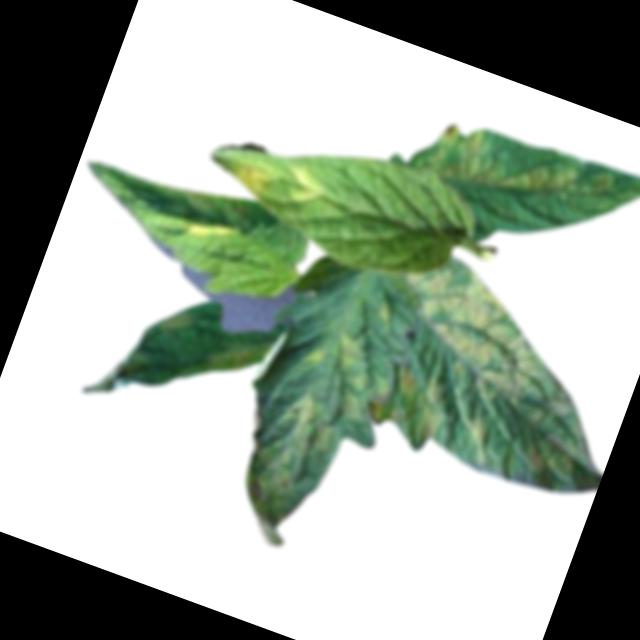Leaf_Mold: (354, 246, 640, 507), (208, 308, 408, 567), (426, 108, 622, 236), (229, 154, 285, 204), (278, 158, 330, 208), (157, 301, 201, 343), (185, 217, 237, 251)
